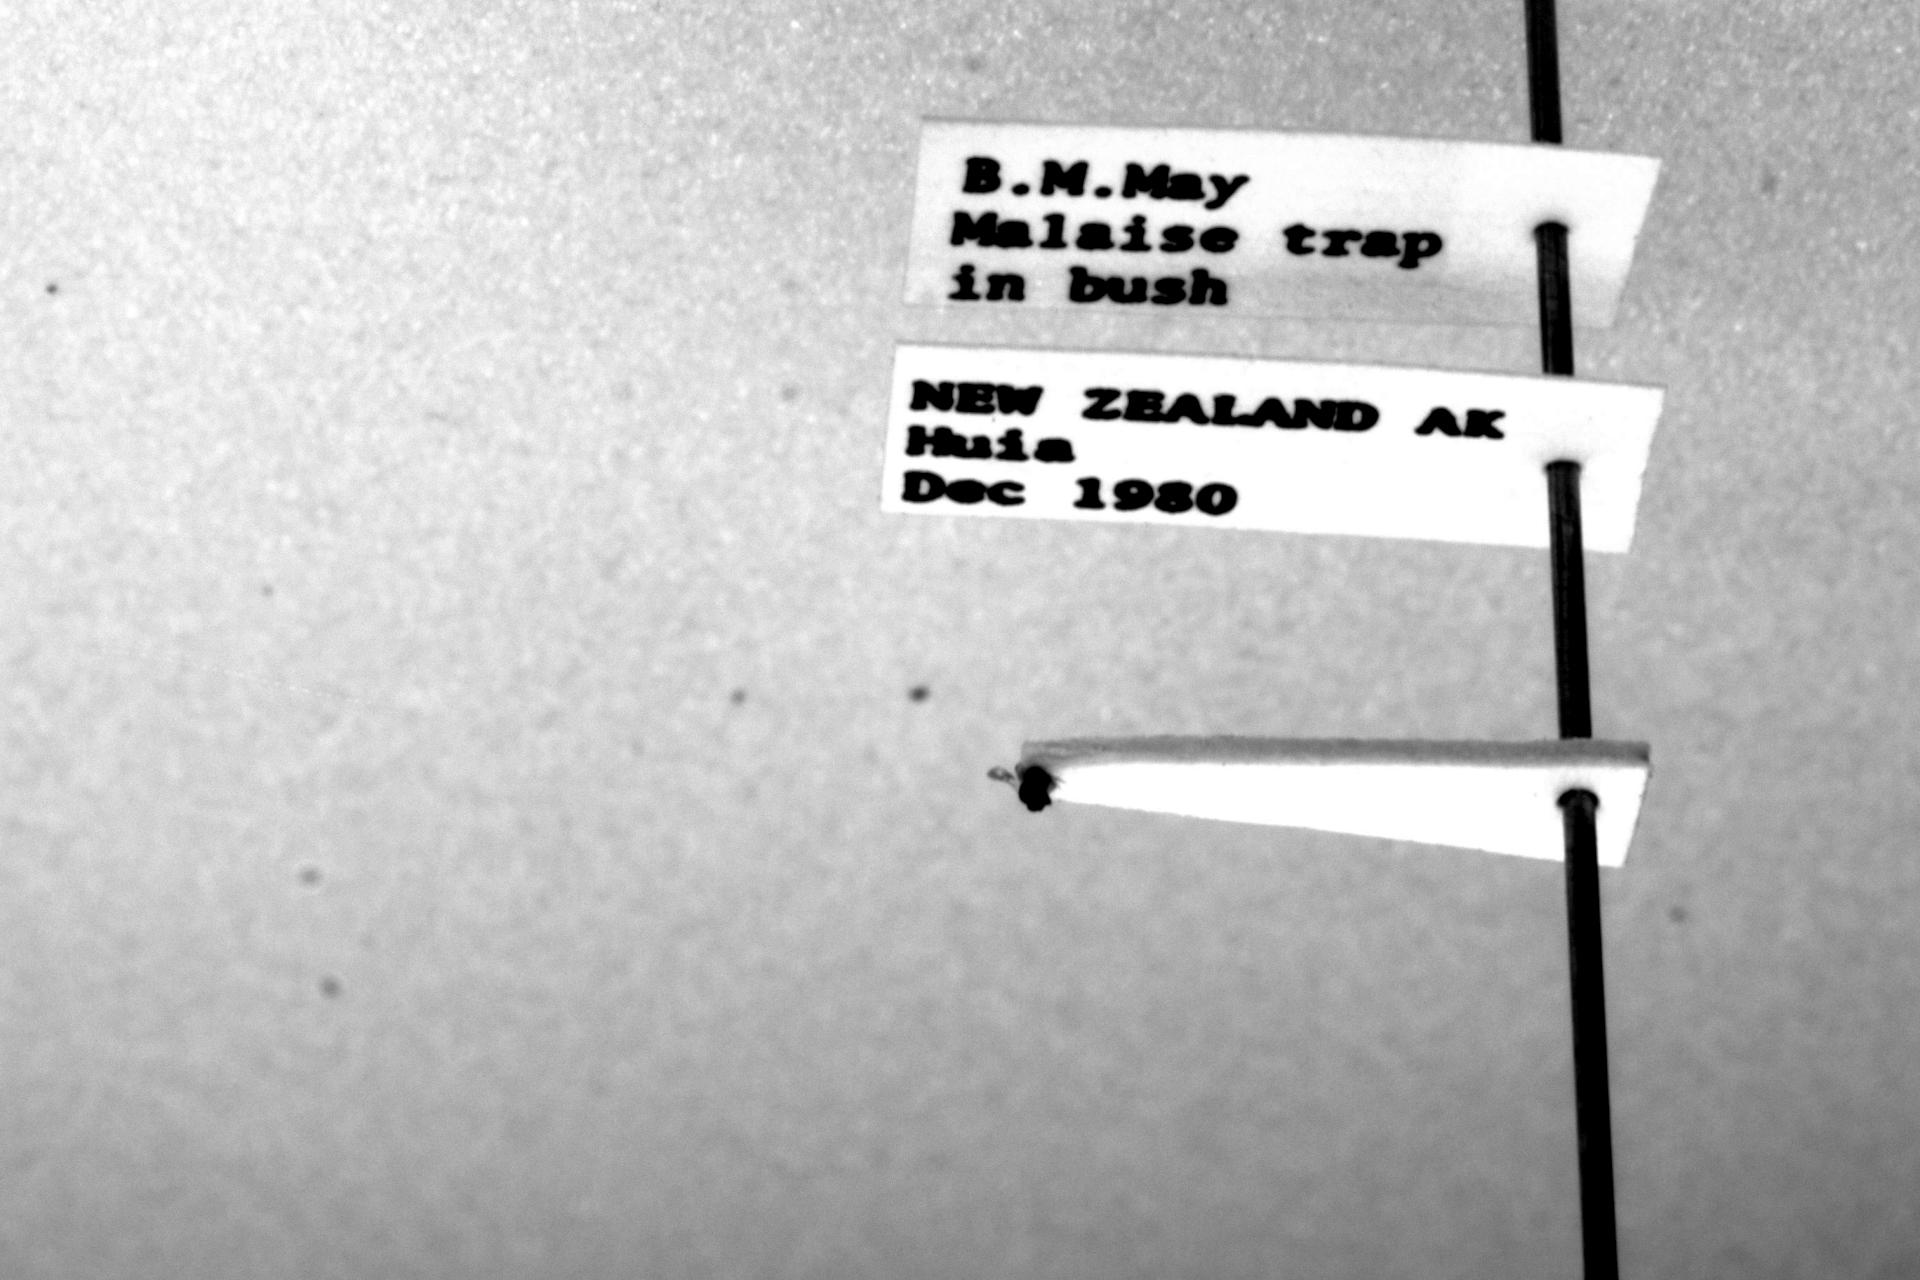typed_label: (881, 346, 1666, 551), (904, 120, 1657, 326)
